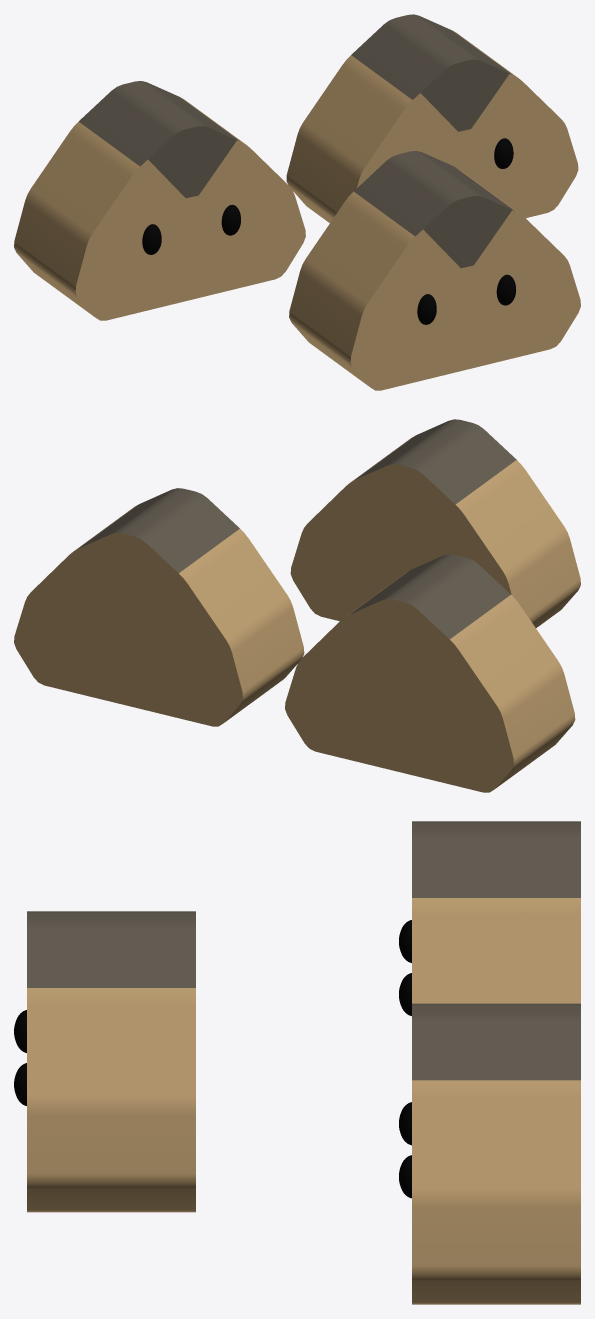
File: bolas onigiri.fbx
3 renders of one model, top to bottom at view 1: azimuth 30°, elevation 25°; view 2: azimuth 150°, elevation 25°; view 3: azimuth 270°, elevation 25°, orthographic. The views are drawn at different scales.
Parts seen in each view (by area): view 1: bola_naranja2, bola_naranja, bola_naranja1; view 2: bola_naranja, bola_naranja1, bola_naranja2; view 3: bola_naranja1, bola_naranja2, bola_naranja.
Boxes of the visible parts, x1,y1,x2,y2 form: bola_naranja2: (289,151,580,390); bola_naranja: (14,81,305,320); bola_naranja1: (286,14,578,222); bola_naranja: (285,554,575,792); bola_naranja1: (14,488,304,726); bola_naranja2: (290,419,580,627); bola_naranja1: (399,1003,580,1304); bola_naranja2: (14,911,195,1212); bola_naranja: (399,821,580,1015).
Size of the model in its own units: 4.24 by 1.38 by 3.02.
